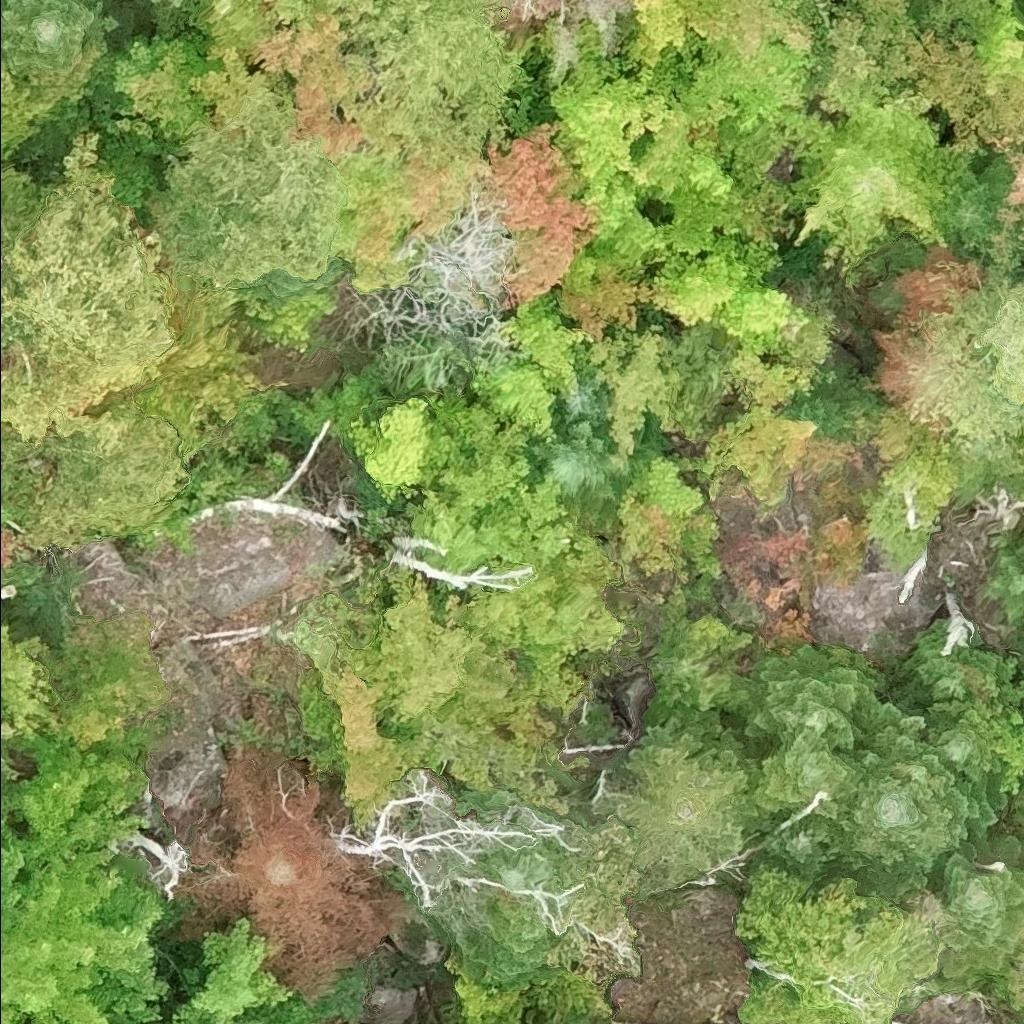crown: (174, 741, 420, 1007), (0, 170, 173, 453), (154, 78, 348, 289), (348, 574, 574, 749), (828, 699, 1008, 904), (732, 856, 941, 1023), (788, 97, 973, 273), (610, 702, 775, 897), (342, 0, 531, 166), (0, 846, 168, 1023), (462, 521, 624, 702), (86, 32, 223, 214), (325, 147, 491, 290), (23, 399, 182, 546), (485, 119, 597, 311), (502, 0, 646, 149), (403, 452, 582, 568), (249, 8, 380, 166), (549, 58, 688, 188), (20, 734, 145, 874), (642, 579, 758, 728), (149, 297, 283, 422), (742, 641, 886, 755), (923, 829, 1023, 993), (650, 251, 814, 350), (929, 272, 1023, 444), (704, 403, 856, 503), (559, 162, 671, 297), (503, 290, 641, 392), (616, 455, 725, 582), (169, 916, 291, 1023), (0, 0, 123, 104), (751, 720, 866, 829), (332, 660, 408, 824), (598, 322, 682, 468), (205, 0, 388, 67), (449, 887, 560, 991), (526, 418, 624, 521), (344, 393, 429, 501), (723, 330, 833, 407), (680, 0, 813, 63), (0, 60, 63, 189), (551, 260, 652, 340), (633, 123, 733, 202), (947, 140, 1014, 255), (0, 620, 63, 742), (473, 354, 559, 443), (916, 697, 1003, 780), (190, 46, 271, 131), (895, 616, 966, 711), (444, 960, 532, 1023), (475, 836, 569, 891), (761, 813, 837, 879), (488, 0, 616, 36), (623, 0, 689, 68), (242, 259, 350, 298), (974, 0, 1023, 82), (983, 532, 1023, 628), (552, 365, 611, 430), (0, 762, 25, 892), (1000, 934, 1023, 1010), (233, 1001, 311, 1023), (146, 0, 187, 40), (0, 529, 16, 567), (309, 1020, 320, 1023), (1020, 1016, 1023, 1023), (391, 1022, 398, 1023)
